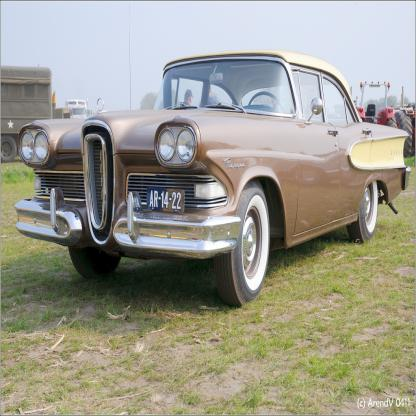Car: (14, 49, 412, 308)
